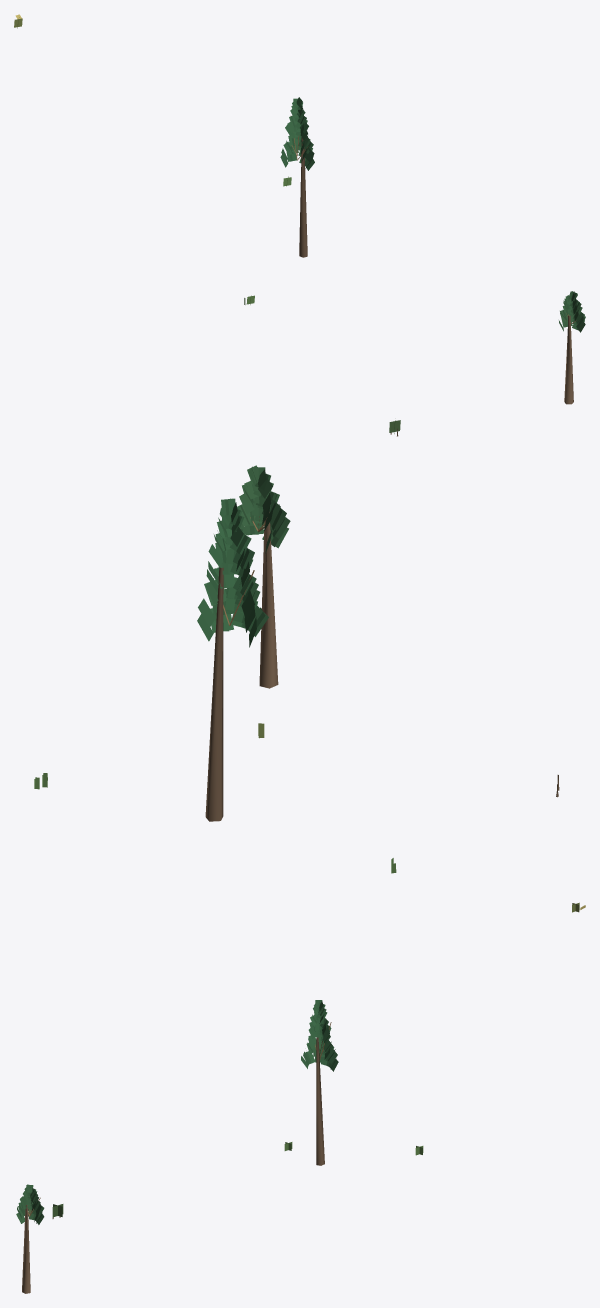
File: arch_land_scatter_c22_19_lod1.glb
3 views of the same model, one above another, from view 1: azimuth 30°, elevation 25°; view 2: azimuth 150°, elevation 25°; view 3: azimuth 270°, elevation 25° (orthographic). The views are drawn at different scales.
Visible parts, largest first — view 1: arch_land_scatter_c22_19_lod1; view 2: arch_land_scatter_c22_19_lod1; view 3: arch_land_scatter_c22_19_lod1.
Part boxes in pixels (bbox=[...]): arch_land_scatter_c22_19_lod1: bbox=[14, 14, 585, 436]; arch_land_scatter_c22_19_lod1: bbox=[34, 465, 559, 873]; arch_land_scatter_c22_19_lod1: bbox=[16, 902, 585, 1293].
Bounding box in the file's own units: 23.9 × 19.5 × 39.29.
